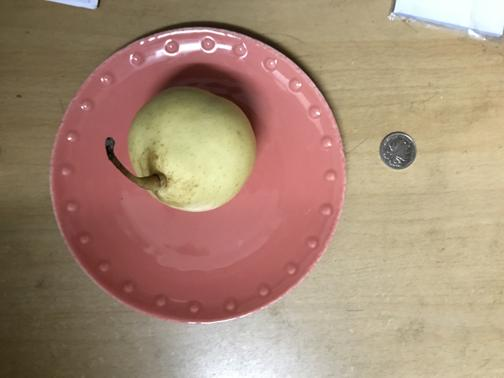coin: (379, 133, 419, 169)
pear: (127, 90, 257, 211)
